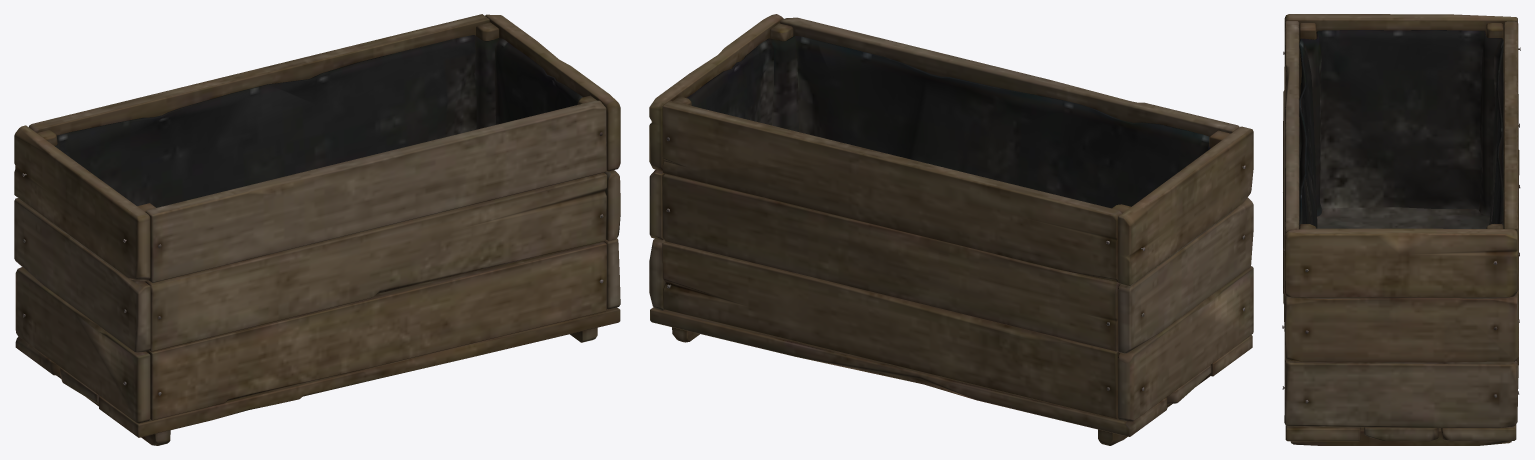
The model's file is planter_box_01.glb.
The picture shows the model from 3 angles, left to right: view 1: azimuth 30°, elevation 25°; view 2: azimuth 150°, elevation 25°; view 3: azimuth 270°, elevation 25°; orthographic projection. The views are drawn at different scales.
Parts seen in each view (by area): view 1: planter_box_01; view 2: planter_box_01; view 3: planter_box_01.
Part boxes in pixels (x1,y1,x2,y2): planter_box_01: [14, 14, 620, 445]; planter_box_01: [649, 14, 1253, 445]; planter_box_01: [1282, 14, 1520, 445].
Size of the model in its own units: 0.9126 by 0.4249 by 0.4137.
1 material, 1 textured.
